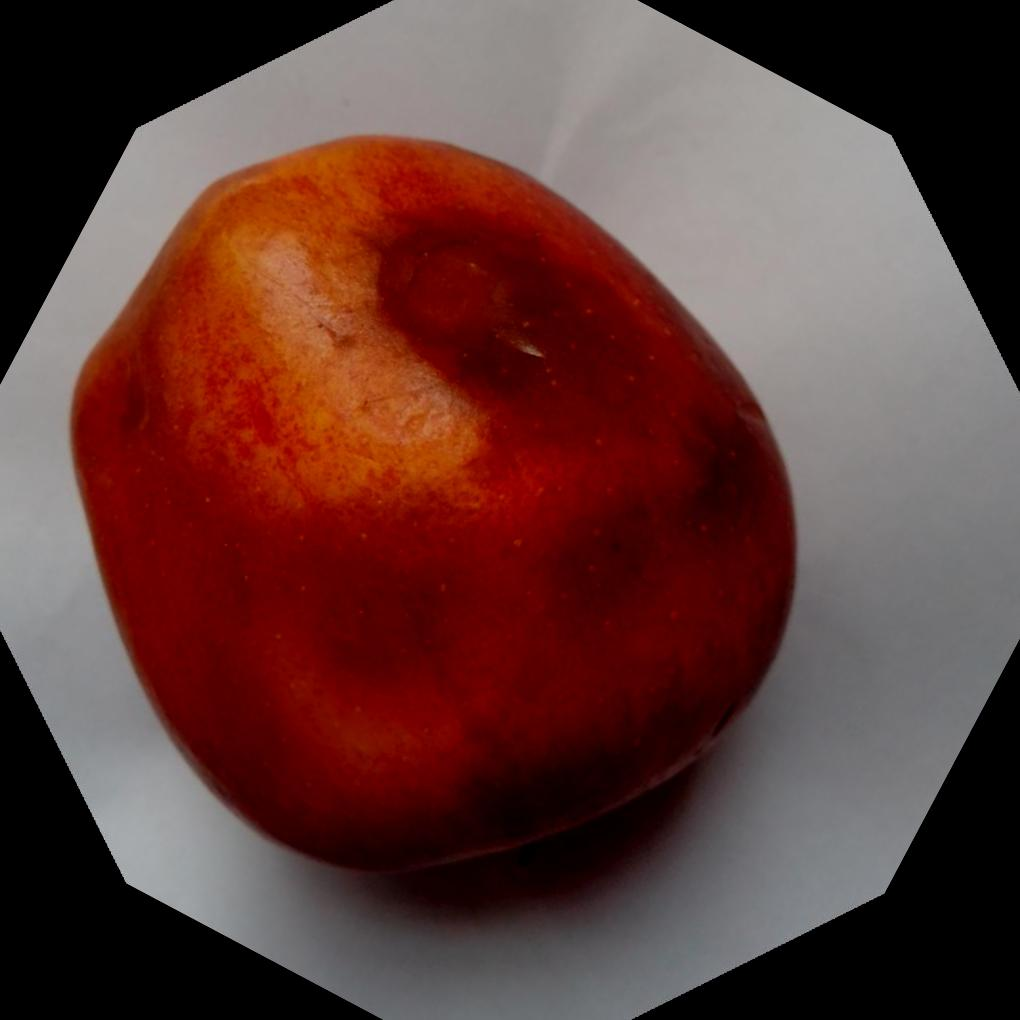FreshOrange: (65, 132, 797, 875)
